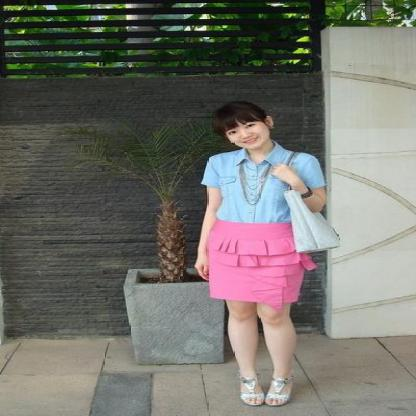bag: (284, 190, 340, 252)
shirt: (200, 144, 330, 222)
shoe: (240, 374, 289, 404)
skirt: (195, 220, 313, 306)
